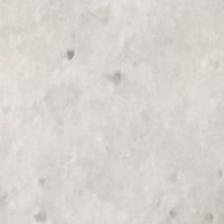Non_Crack: (6, 84, 224, 224)
